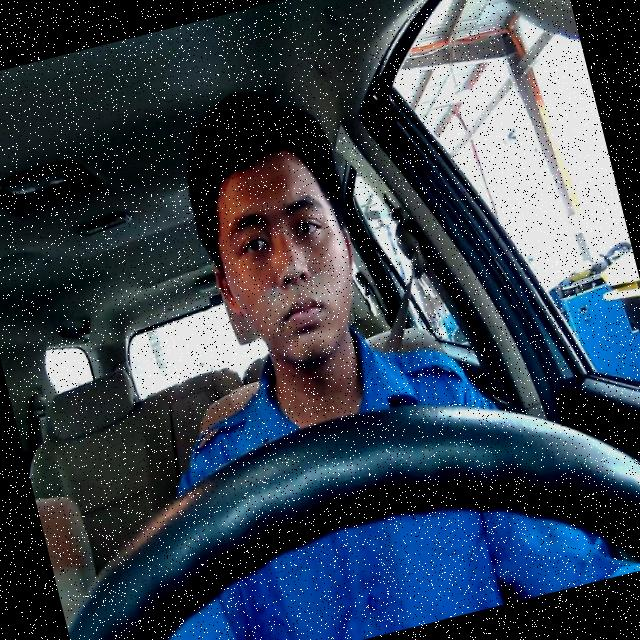focused: (186, 138, 374, 380)
